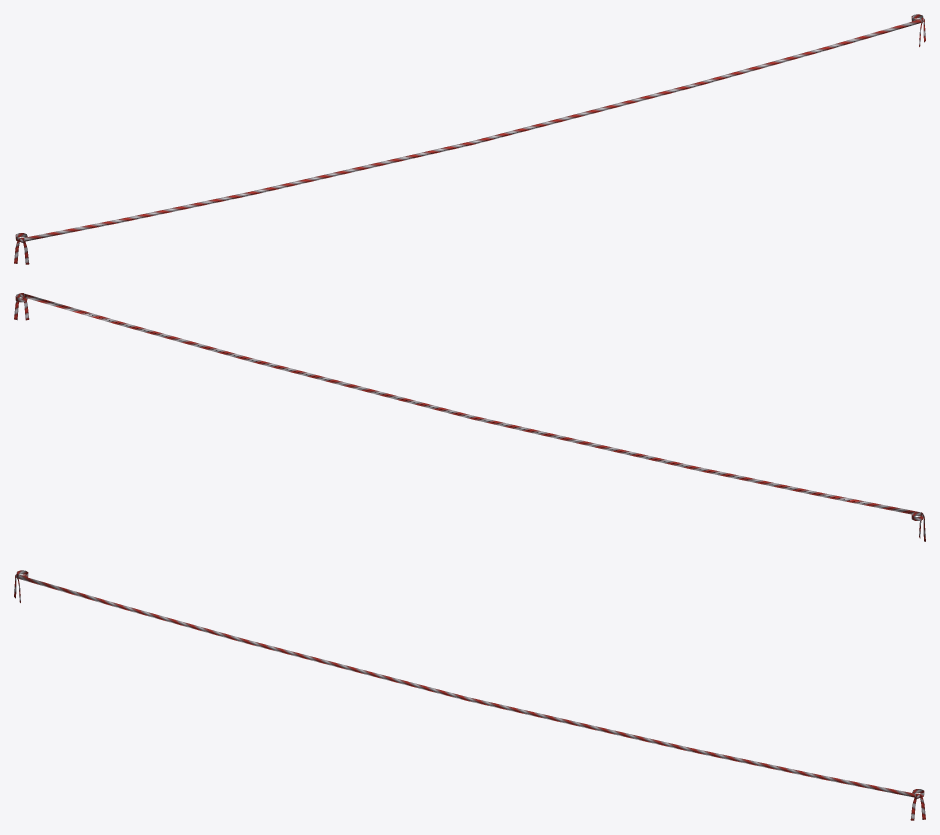
File: jsf_4P_String_s04_01.fbx
The picture shows the model from 3 angles, top to bottom: view 1: azimuth 30°, elevation 25°; view 2: azimuth 150°, elevation 25°; view 3: azimuth 330°, elevation 25°; orthographic projection.
Visible parts, largest first — view 1: jsf_4P_String_s04_01; view 2: jsf_4P_String_s04_01; view 3: jsf_4P_String_s04_01.
Part boxes in pixels (x1,y1,x2,y2): jsf_4P_String_s04_01: (14, 14, 925, 264); jsf_4P_String_s04_01: (14, 293, 925, 541); jsf_4P_String_s04_01: (14, 570, 925, 820).
Size of the model in its own units: 344 by 9.85 by 5.
